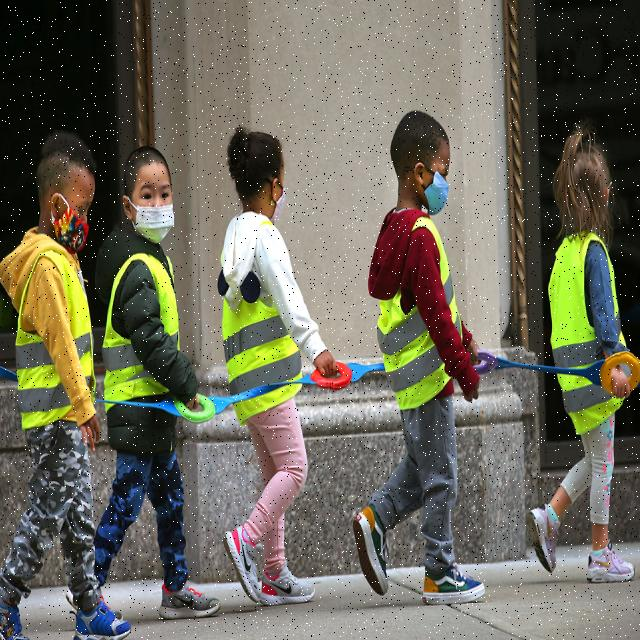Person: (0, 128, 132, 640), (353, 109, 485, 602), (94, 145, 220, 618), (224, 128, 336, 608), (528, 133, 634, 582)
